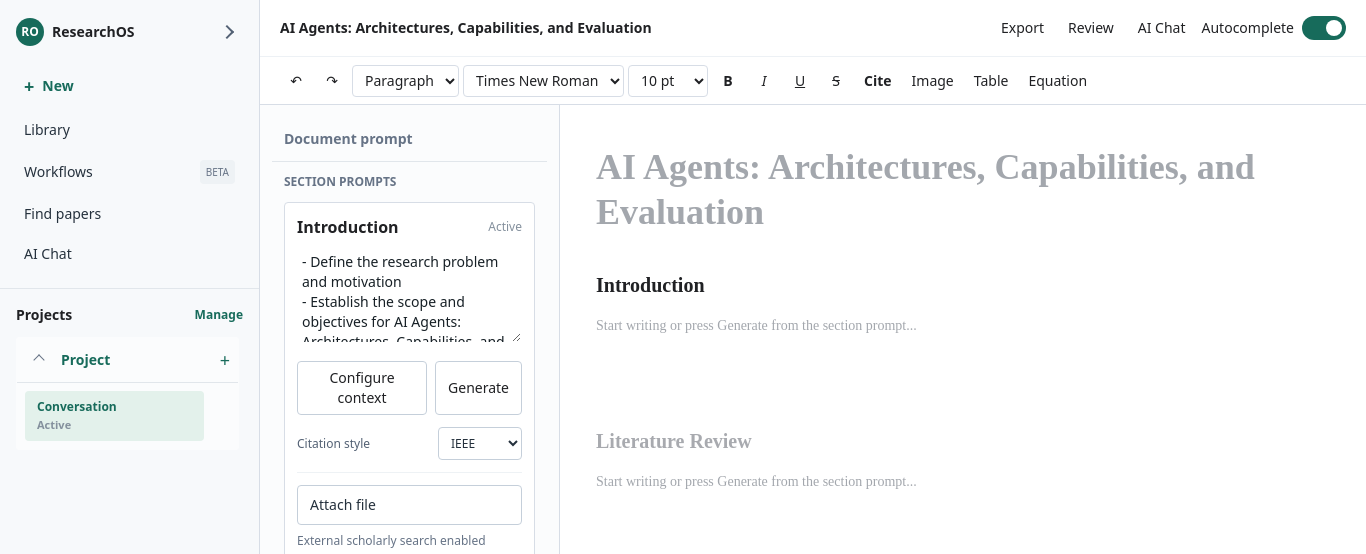
edits and resubmits a prompt with the selected citation style and verified sources
Expected: the element named "Editor toolbar" is shown, [260,56,1365,104]
Click the button "AI Chat" next to "Autocomplete": (1162, 28) [1130,12,1194,44]
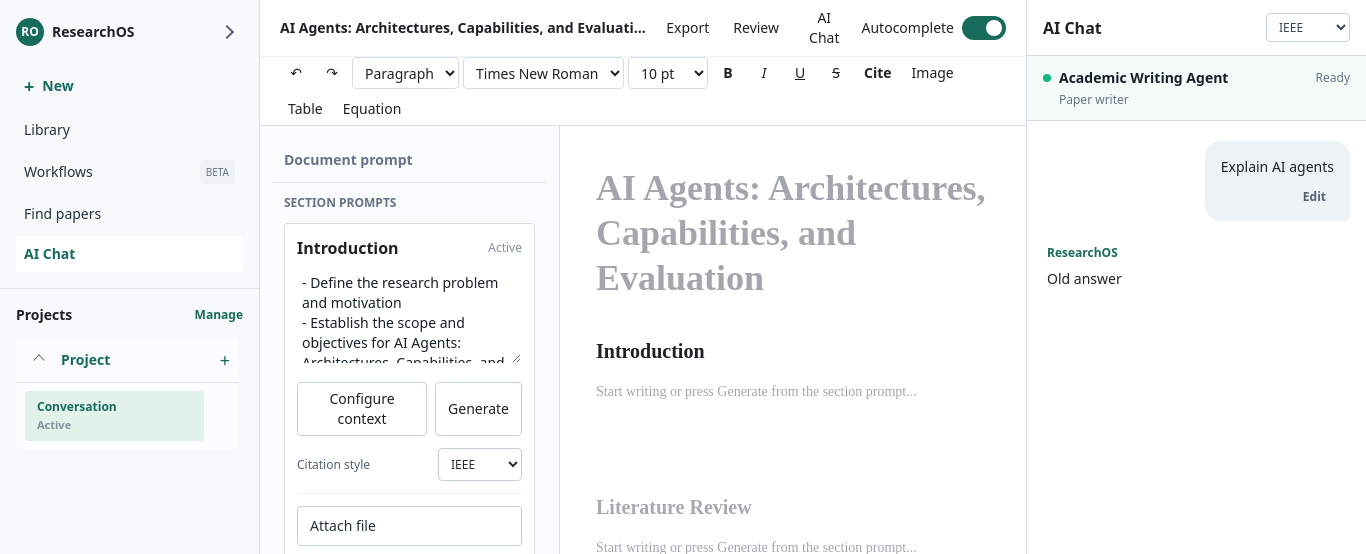
Select "APA 7" in the dropdown named "Chat citation style": (1308, 28) [1266,13,1350,42]
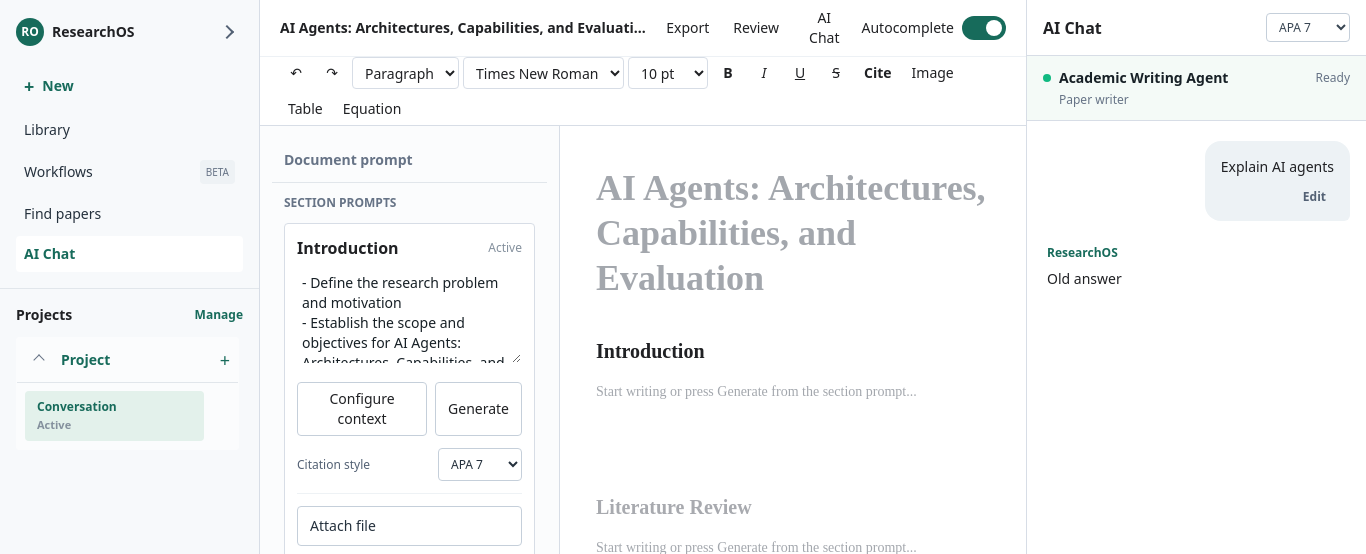
Click the button with aria-label "Edit prompt": (1314, 197) [1295,185,1334,209]
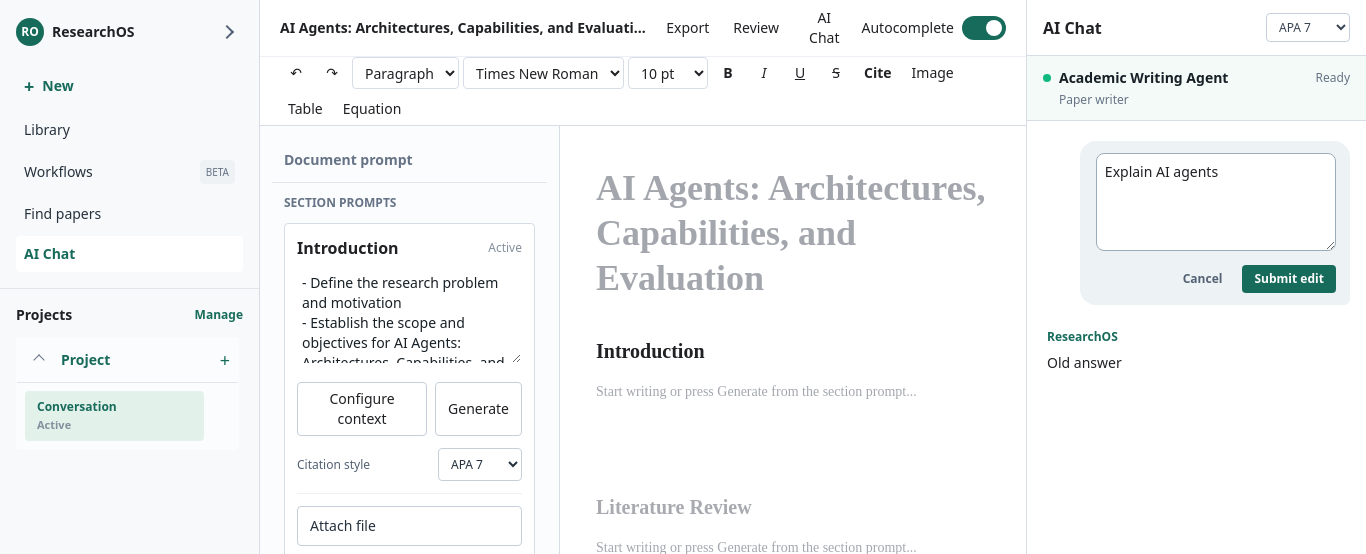
Replace the text in the text box named "Edit prompt" with "Explain AI agent evaluation": (1216, 202) [1096,153,1336,251]
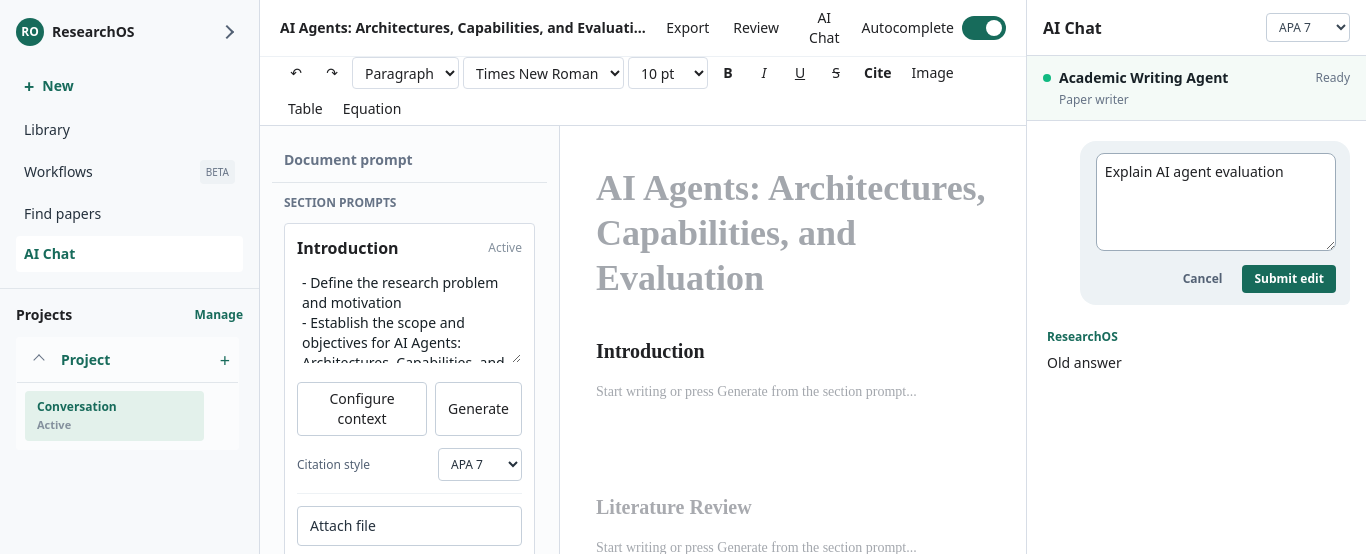
Click the button "Submit edit": (1289, 279) [1242,265,1336,293]
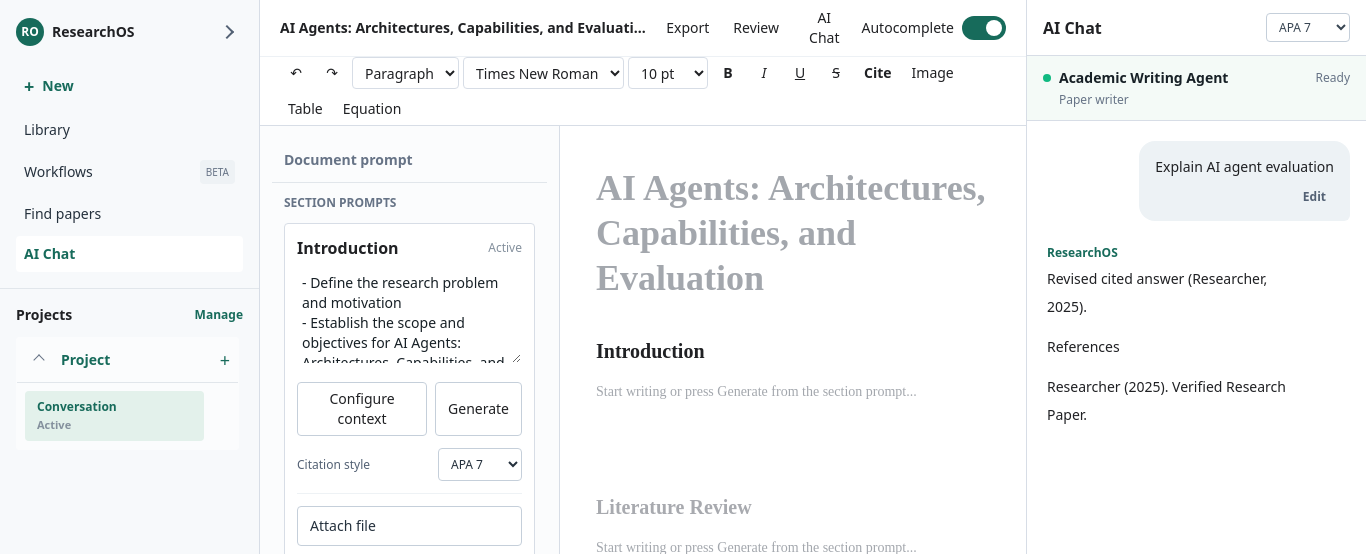
Expected: the text "Old answer" is gone
Expected: the text "Revised cited answer (Researcher, 2025)." is shown, [1047,269,1267,316]
